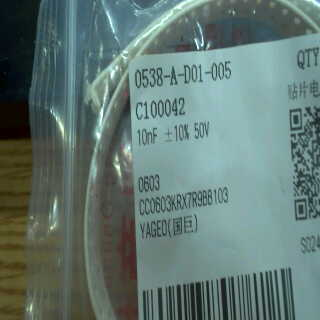10nF: (134, 125, 162, 147)
